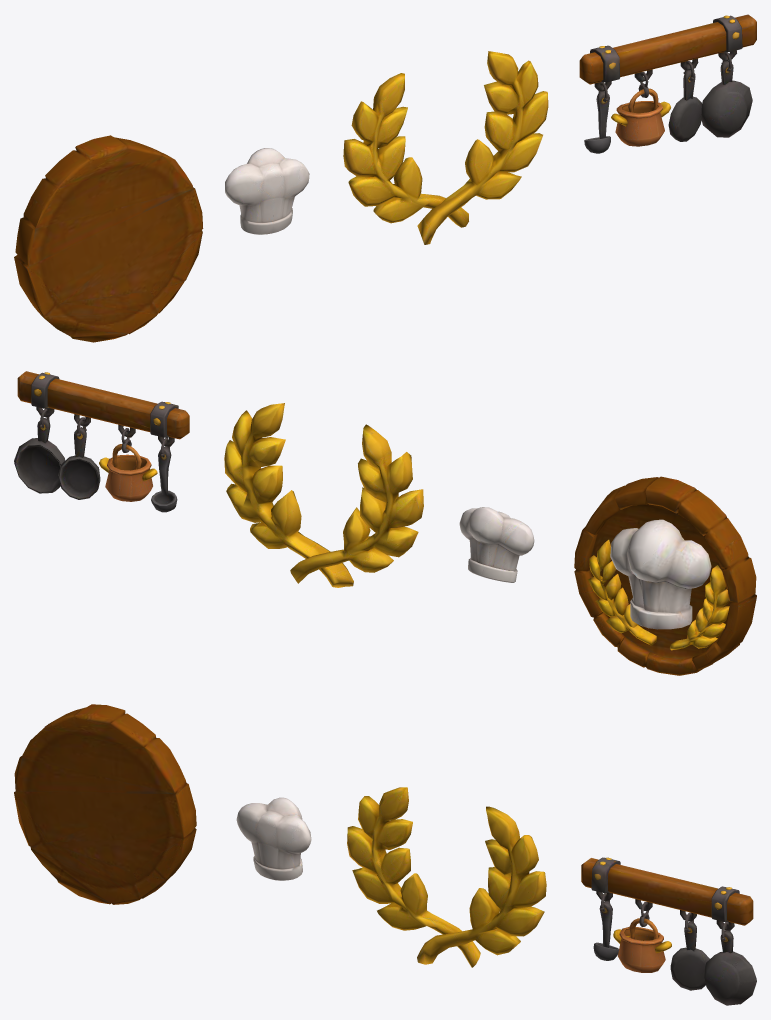
The model's file is kitchen_pieces.glb.
3 views of the same model, one above another, from view 1: azimuth 30°, elevation 25°; view 2: azimuth 150°, elevation 25°; view 3: azimuth 330°, elevation 25° (orthographic). The views are drawn at different scales.
Parts seen in each view (by area): view 1: ChefEmblem_Plaque, Laurel_Gold, PotRack_Iron, ChefHat_White; view 2: ChefEmblem_Plaque, Laurel_Gold, PotRack_Iron, ChefHat_White; view 3: ChefEmblem_Plaque, Laurel_Gold, PotRack_Iron, ChefHat_White.
Part boxes in pixels (x1,y1,x2,y2): ChefEmblem_Plaque: (14, 135, 203, 342); Laurel_Gold: (343, 51, 548, 244); PotRack_Iron: (579, 14, 756, 153); ChefHat_White: (225, 148, 309, 234); ChefEmblem_Plaque: (574, 476, 756, 675); Laurel_Gold: (224, 403, 423, 587); PotRack_Iron: (14, 371, 189, 512); ChefHat_White: (459, 507, 534, 582); ChefEmblem_Plaque: (14, 704, 196, 904); Laurel_Gold: (347, 787, 546, 967); PotRack_Iron: (581, 857, 756, 1005); ChefHat_White: (236, 797, 311, 880).
Bounding box in the file's own units: 19.49 × 4.8 × 1.62.
Materials: 1 (1 with a texture image).
